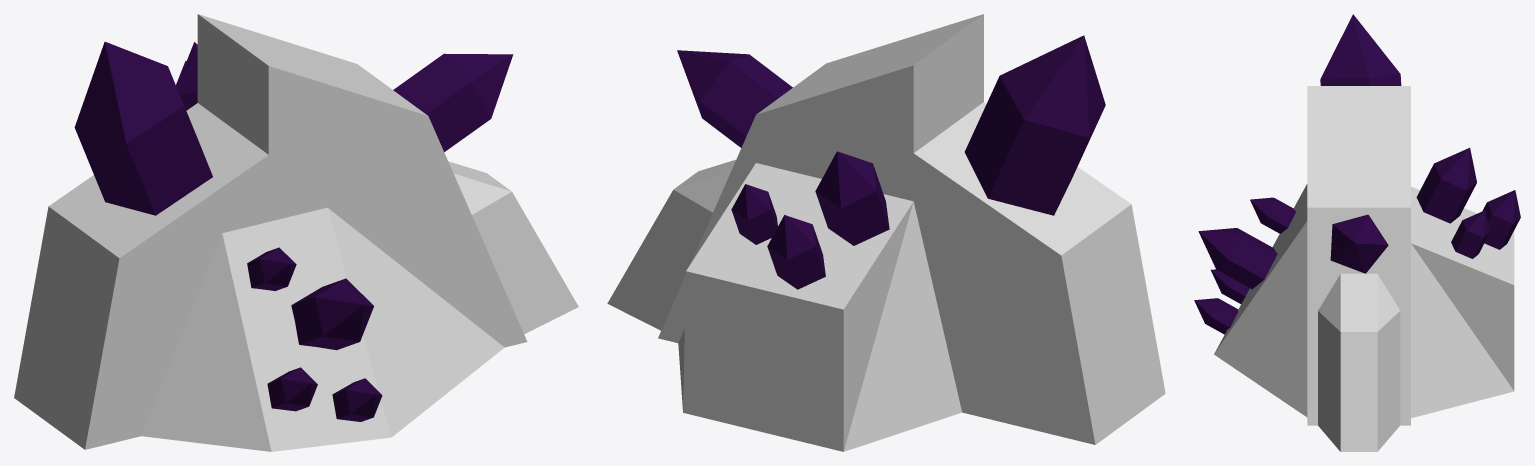
File: Obsidiana_Tipo2.fbx
The picture shows the model from 3 angles, left to right: view 1: azimuth 30°, elevation 25°; view 2: azimuth 150°, elevation 25°; view 3: azimuth 270°, elevation 25°; orthographic projection. The views are drawn at different scales.
Parts seen in each view (by area): view 1: base.019, obsidiana.005, obsidiana.004, obsidiana.007, obsidiana.008, obsidiana.009, obsidiana.006, obsidiana.010; view 2: base.019, obsidiana.005, obsidiana.004, obsidiana.010, obsidiana.012, obsidiana.011; view 3: base.019, obsidiana.005, obsidiana.007, obsidiana.010, obsidiana.004, obsidiana.012, obsidiana.011, obsidiana.006, obsidiana.009, obsidiana.008.
Part boxes in pixels (bbox=[...]): base.019: bbox=[14, 14, 578, 451]; obsidiana.005: bbox=[74, 41, 212, 215]; obsidiana.004: bbox=[393, 53, 513, 151]; obsidiana.007: bbox=[291, 278, 373, 350]; obsidiana.008: bbox=[267, 367, 317, 411]; obsidiana.009: bbox=[332, 378, 382, 421]; obsidiana.006: bbox=[247, 247, 296, 290]; obsidiana.010: bbox=[176, 42, 197, 110]; base.019: bbox=[607, 14, 1165, 451]; obsidiana.005: bbox=[964, 35, 1105, 215]; obsidiana.004: bbox=[677, 50, 792, 147]; obsidiana.010: bbox=[815, 151, 889, 245]; obsidiana.012: bbox=[767, 215, 825, 289]; obsidiana.011: bbox=[731, 184, 777, 244]; base.019: bbox=[1214, 86, 1514, 451]; obsidiana.005: bbox=[1320, 14, 1401, 85]; obsidiana.007: bbox=[1198, 228, 1277, 289]; obsidiana.010: bbox=[1416, 147, 1476, 223]; obsidiana.004: bbox=[1330, 214, 1388, 273]; obsidiana.012: bbox=[1482, 190, 1520, 249]; obsidiana.011: bbox=[1451, 210, 1489, 258]; obsidiana.006: bbox=[1250, 197, 1295, 233]; obsidiana.009: bbox=[1194, 298, 1238, 334]; obsidiana.008: bbox=[1211, 269, 1249, 303].
Size of the model in its own units: 140 by 96.67 by 105.
